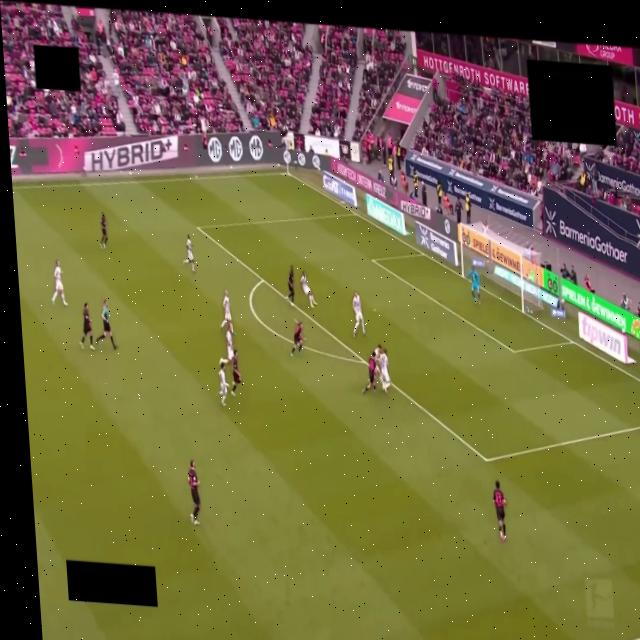player: (188, 460, 200, 525), (493, 481, 506, 541), (218, 322, 236, 365), (52, 260, 67, 306), (352, 292, 366, 336), (81, 303, 94, 350), (300, 271, 316, 308), (363, 355, 377, 393), (467, 266, 480, 303), (291, 322, 305, 356), (379, 349, 390, 392), (232, 350, 241, 396), (184, 235, 195, 272), (219, 361, 228, 406), (221, 290, 231, 329), (373, 344, 382, 379), (286, 266, 294, 305), (100, 213, 107, 248), (373, 345, 382, 362)
referee: (96, 301, 117, 350)
